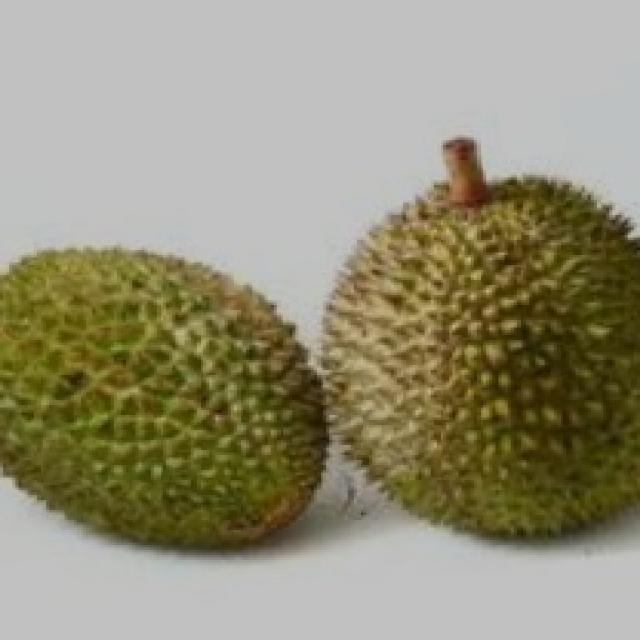fruit: (264, 160, 640, 587), (3, 213, 354, 595)
